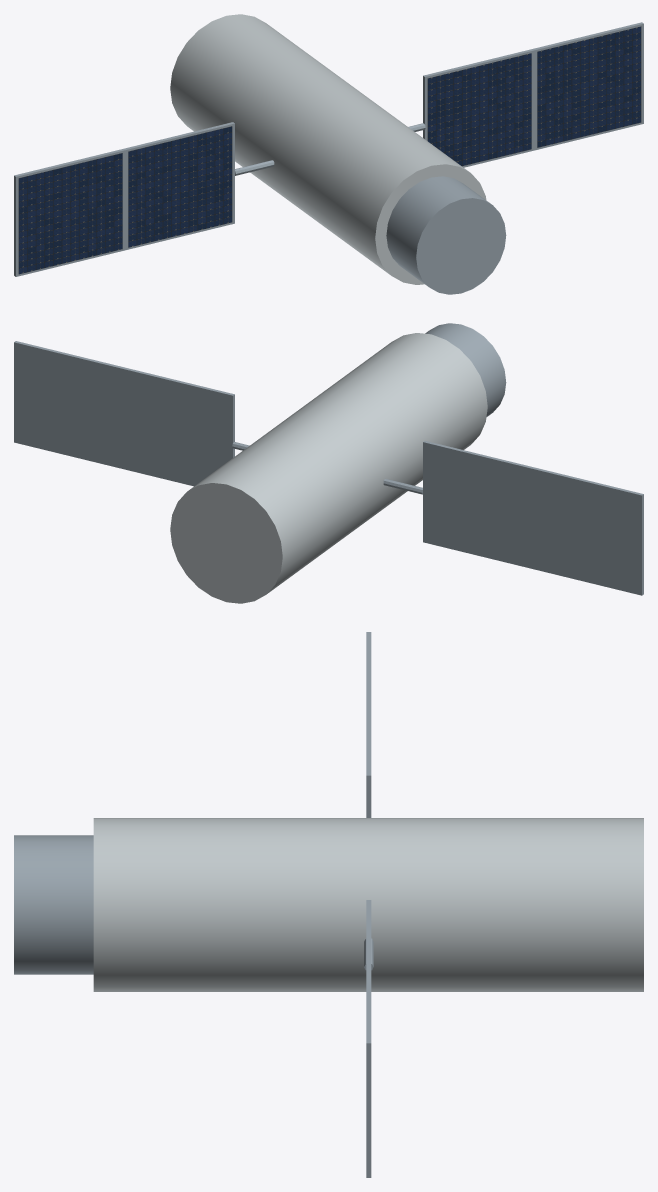
The model's file is ref-tiangong-37820.glb.
The picture shows the model from 3 angles, top to bottom: view 1: azimuth 30°, elevation 25°; view 2: azimuth 150°, elevation 25°; view 3: azimuth 270°, elevation 25°; orthographic projection. The views are drawn at different scales.
Visible parts, largest first — view 1: Photovoltaic laminates (×4), Spacecraft body, Cylindrical section, Array frame (×4); view 2: Array frame (×4), Spacecraft body, Cylindrical section; view 3: Spacecraft body, Cylindrical section, Array frame.
Boxes of the visible parts, x1,y1,x2,y2 form: Photovoltaic laminates (×4): [18, 26, 641, 274]; Spacecraft body: [170, 14, 486, 284]; Cylindrical section: [386, 176, 506, 294]; Array frame (×4): [14, 22, 643, 276]; Array frame (×4): [14, 341, 643, 595]; Spacecraft body: [170, 333, 487, 603]; Cylindrical section: [425, 323, 506, 417]; Spacecraft body: [93, 818, 643, 991]; Cylindrical section: [14, 835, 93, 974]; Array frame: [366, 971, 371, 1177].
Size of the model in its own units: 18.4 by 3.3 by 11.91.
Materials: 3 (1 with a texture image).
